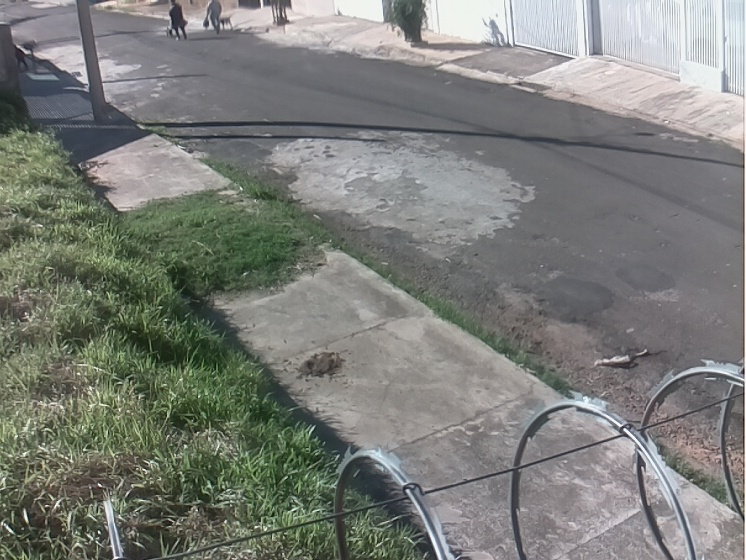person: (165, 1, 188, 42), (206, 1, 223, 34), (11, 44, 29, 73)
